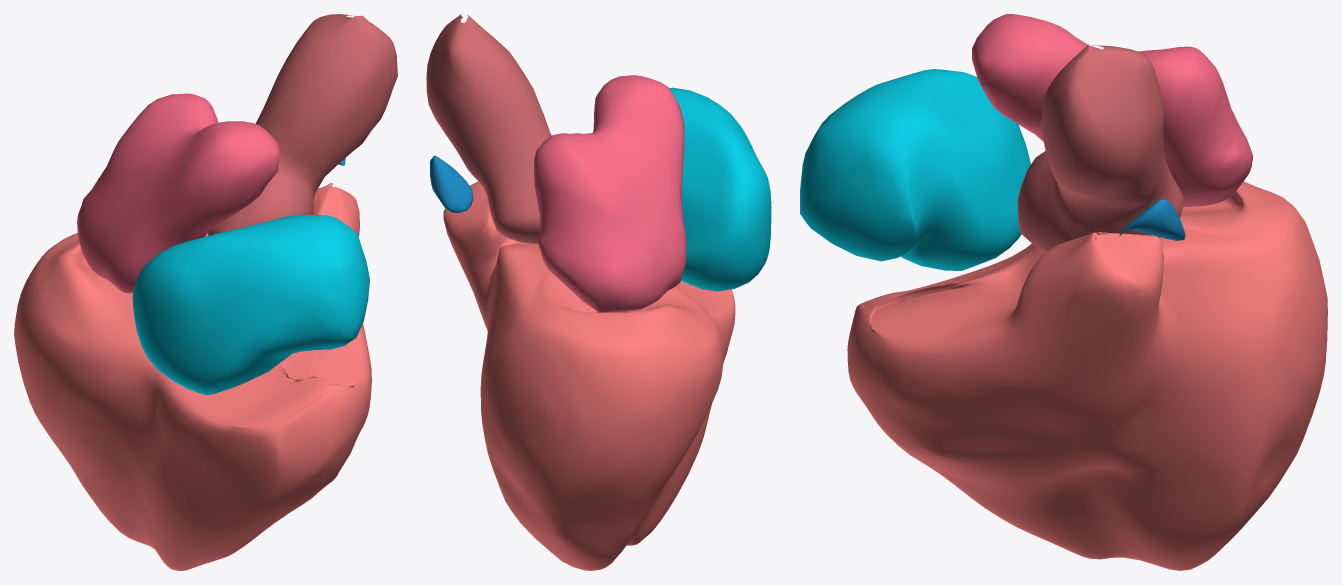
The model's file is frame_21.glb.
3 views of the same model, side by side, from view 1: azimuth 30°, elevation 25°; view 2: azimuth 150°, elevation 25°; view 3: azimuth 270°, elevation 25° (orthographic). The views are drawn at different scales.
Parts seen in each view (by area): view 1: Renderer Node; view 2: Renderer Node; view 3: Renderer Node.
Boxes of the visible parts, left/top/right/bottom form: Renderer Node: left=14, top=14, right=397, bottom=570; Renderer Node: left=426, top=14, right=771, bottom=570; Renderer Node: left=800, top=14, right=1327, bottom=570.
Bounding box in the file's own units: 100 × 152 × 118.
